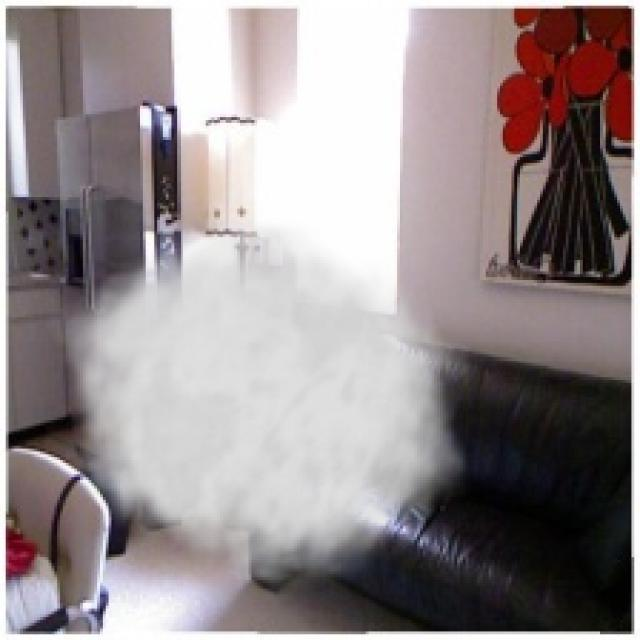Smoke: (46, 208, 472, 603)
